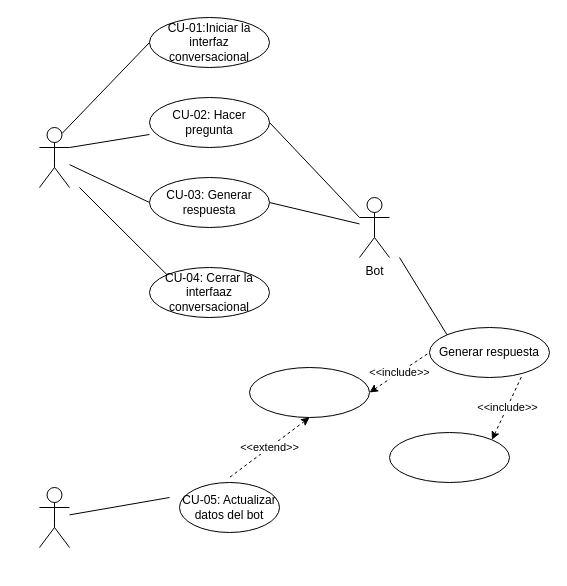
This 567x586 diagram has some shape labels left out. Each missing label, with the centre of its shape:
Administrador: point 54,517
Formular repuesta: point 449,457
Recuperar datos: point 309,392
Usuario: point 54,157
